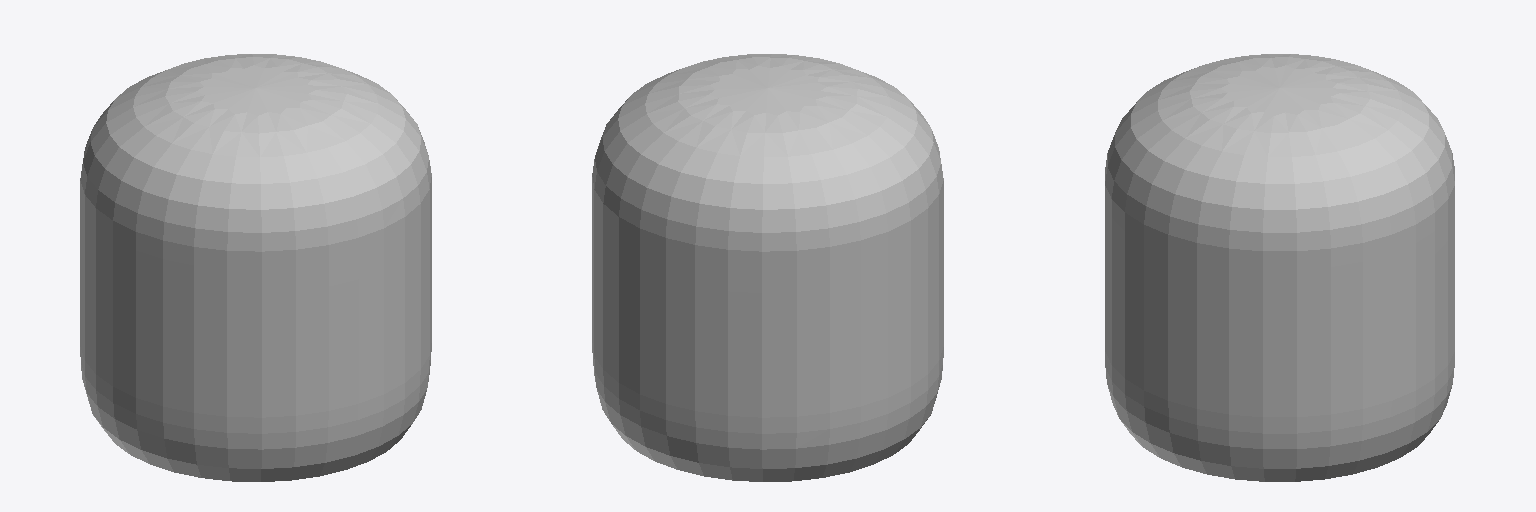
The model's file is cranium.obj.
3 views of the same model, side by side, from view 1: azimuth 30°, elevation 25°; view 2: azimuth 150°, elevation 25°; view 3: azimuth 270°, elevation 25° (orthographic).
Visible parts, largest first — view 1: Head; view 2: Head; view 3: Head.
Part boxes in pixels (x1,y1,x2,y2): Head: (80,54,431,481); Head: (592,54,943,481); Head: (1105,54,1454,481).
Size of the model in its own units: 2.45 by 2.59 by 2.45.